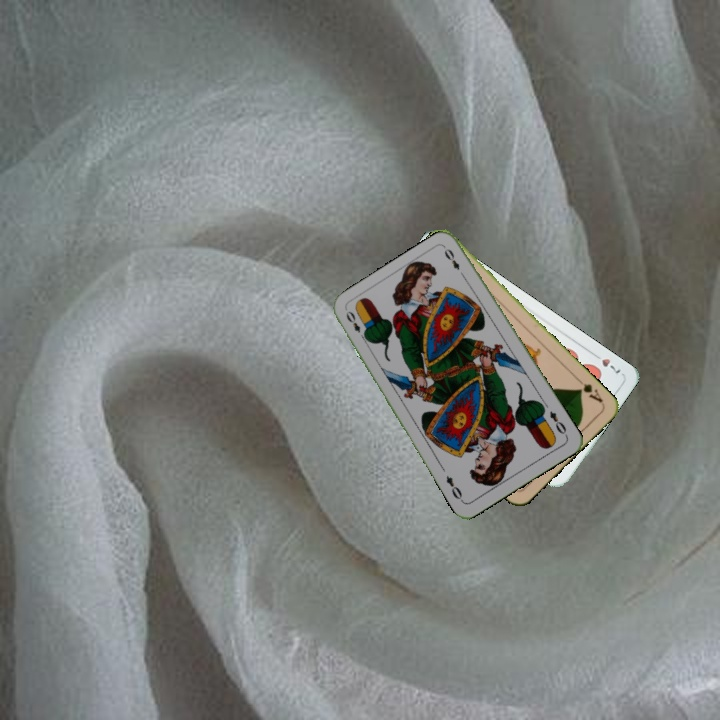EO: (342, 307, 369, 343), (545, 407, 570, 439)
GA: (573, 374, 605, 407)
H7: (589, 349, 624, 376)
